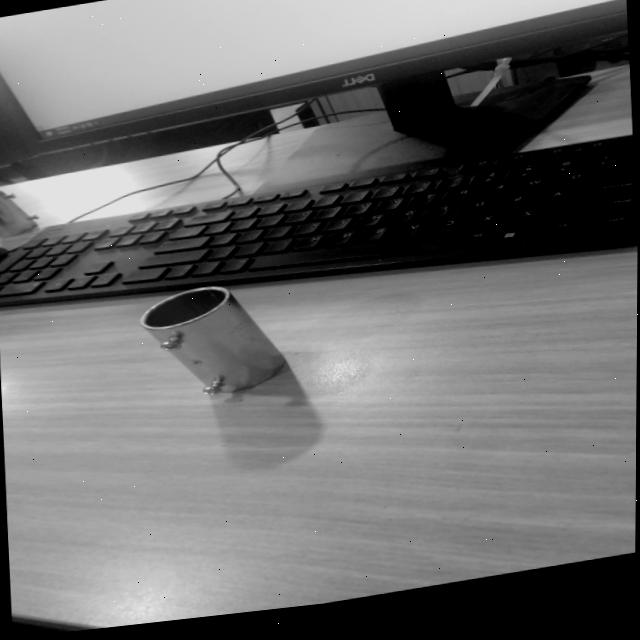Co_Lon: (136, 261, 289, 420)
